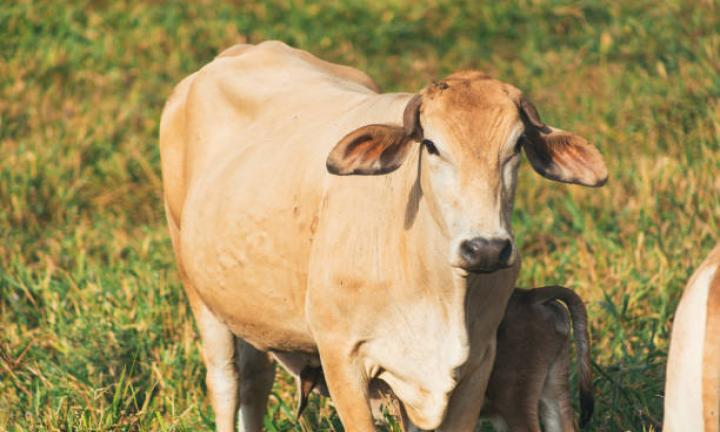Brahman: (160, 41, 606, 430)
